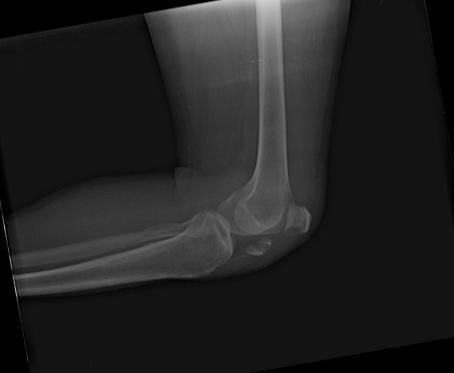fractured: (282, 221, 307, 236), (257, 236, 273, 255)
